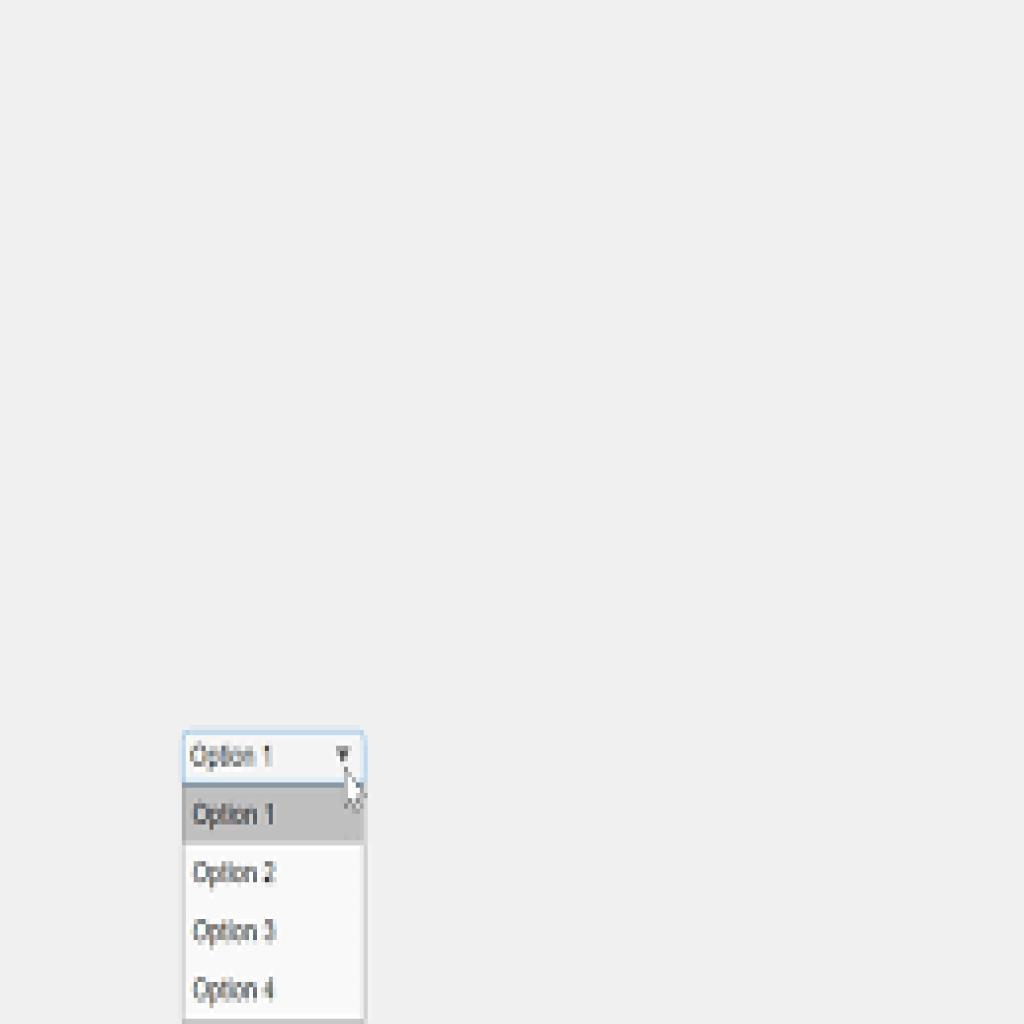button: (183, 788, 368, 842)
dropdown: (183, 731, 369, 785)
